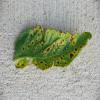Tomato Early blight leaf: (14, 26, 93, 72)
